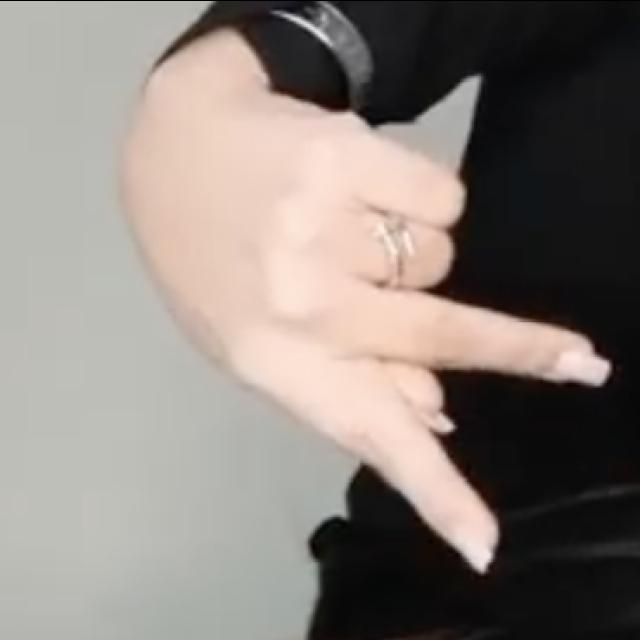K: (97, 52, 622, 589)
